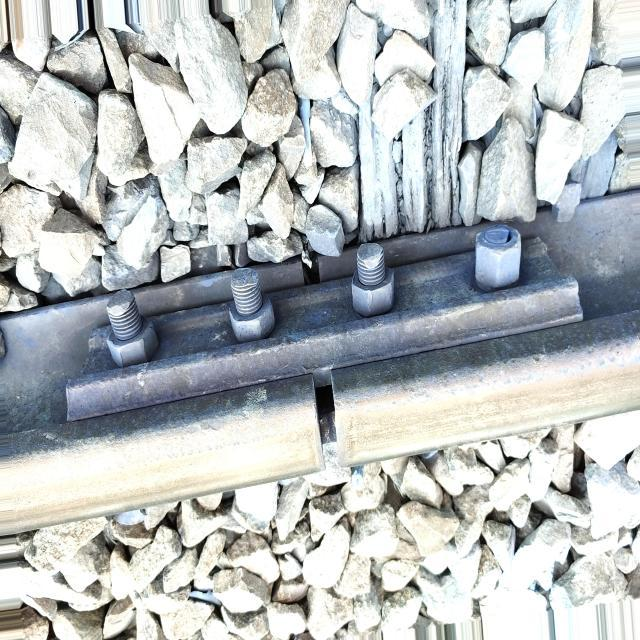Good Joint: (64, 219, 592, 424)
